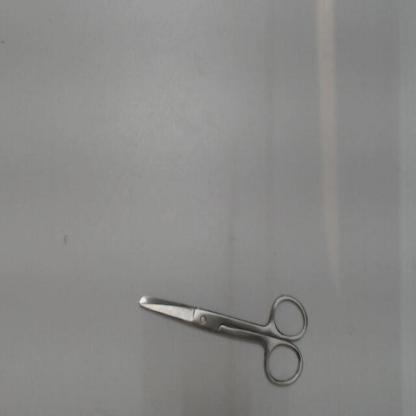Dressing Scissors: (127, 284, 316, 400)
